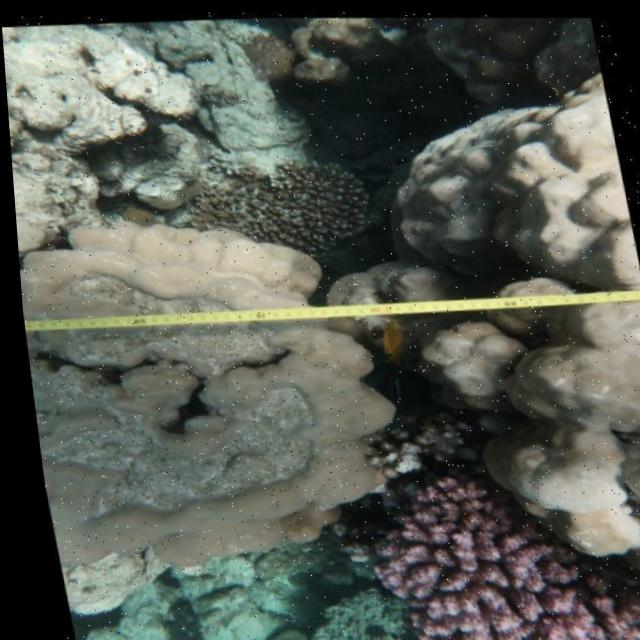Healthy Coral: (340, 445, 640, 640)
